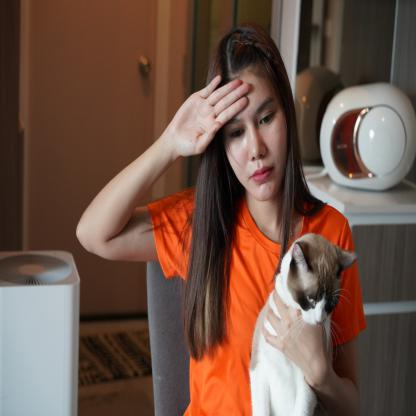Sick: (156, 72, 256, 161)
